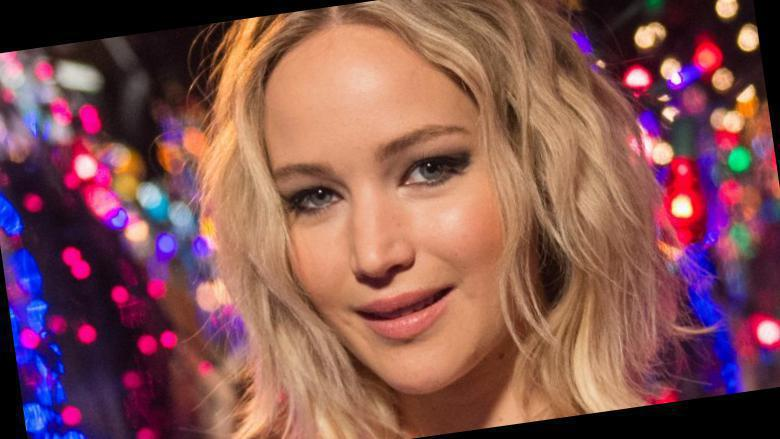Drunk: (260, 58, 519, 389)
